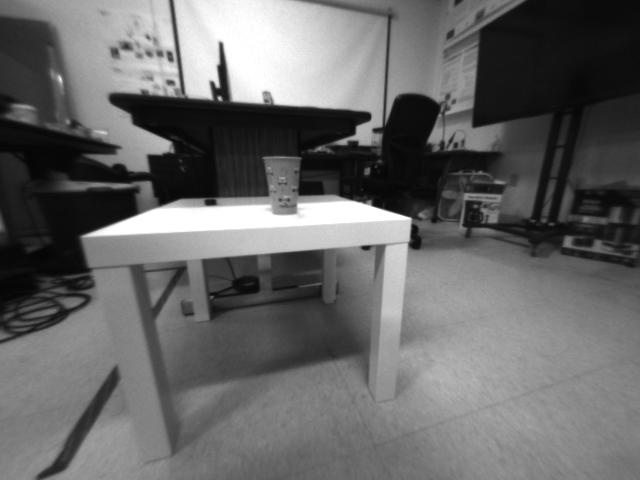coffee_cup: (258, 154, 309, 214)
